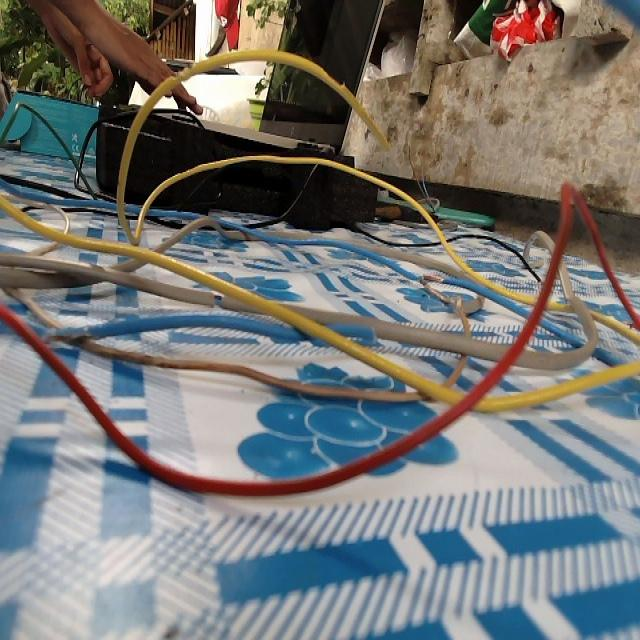-: (39, 323, 92, 348), (418, 269, 444, 284)
